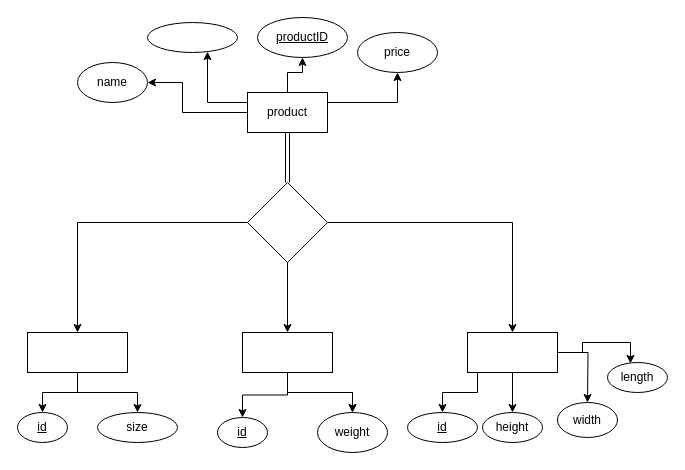
The diagram is 685 pixels wide and 470 high, and some of its shapes have lost their labels. The centre of each missing label's shape, as x and y in pixels:
book: (287,352)
dvd: (77,352)
furniture: (512,352)
is: (287,222)
sku: (192,37)
